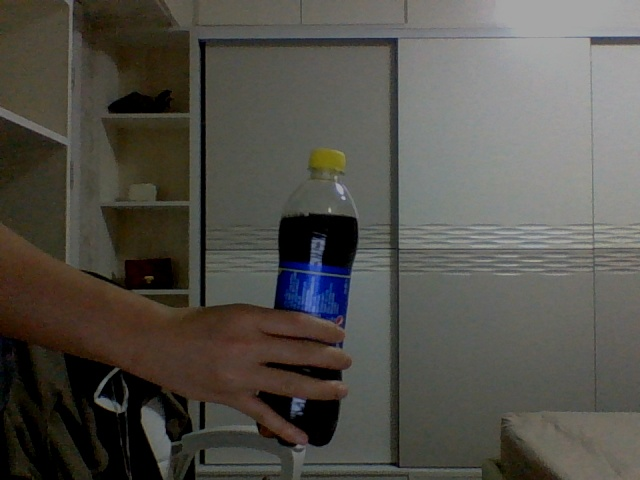Cola: (256, 148, 360, 445)
